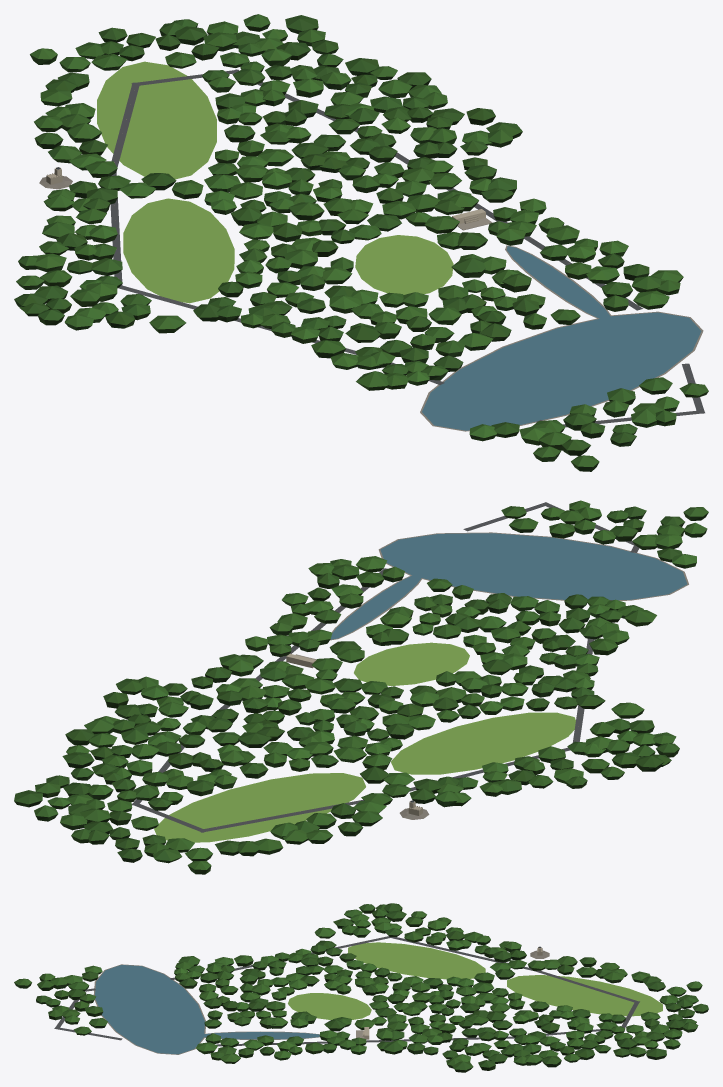
The picture shows the model from 3 angles, top to bottom: view 1: azimuth 30°, elevation 25°; view 2: azimuth 150°, elevation 25°; view 3: azimuth 270°, elevation 25°; orthographic projection. The views are drawn at different scales.
Parts seen in each view (by area): view 1: prospect-park-lod0; view 2: prospect-park-lod0; view 3: prospect-park-lod0.
Boxes of the visible parts, box(x1,y1,x2,y2) form: prospect-park-lod0: box(14, 14, 708, 471); prospect-park-lod0: box(14, 500, 708, 874); prospect-park-lod0: box(14, 903, 708, 1072).
Size of the model in its own units: 1507 by 37.68 by 2661.
